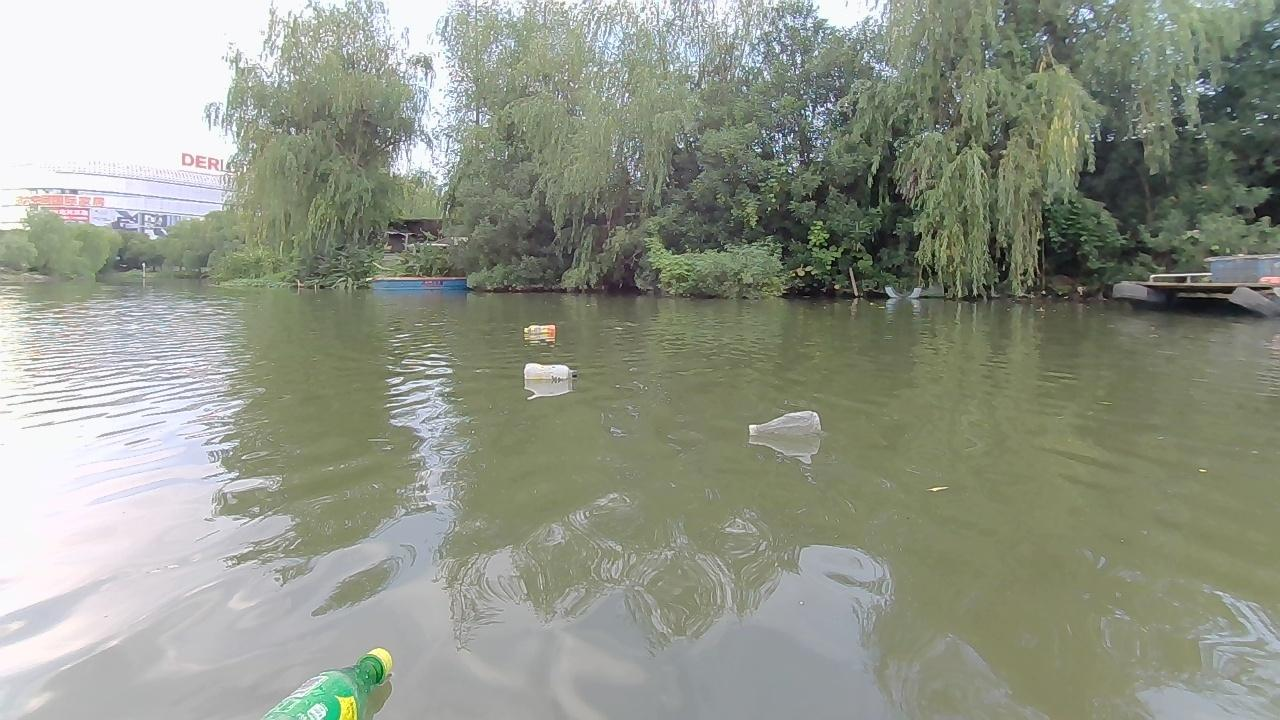bottle: (255, 643, 401, 719), (744, 405, 826, 439), (517, 360, 582, 390), (520, 318, 554, 339)
